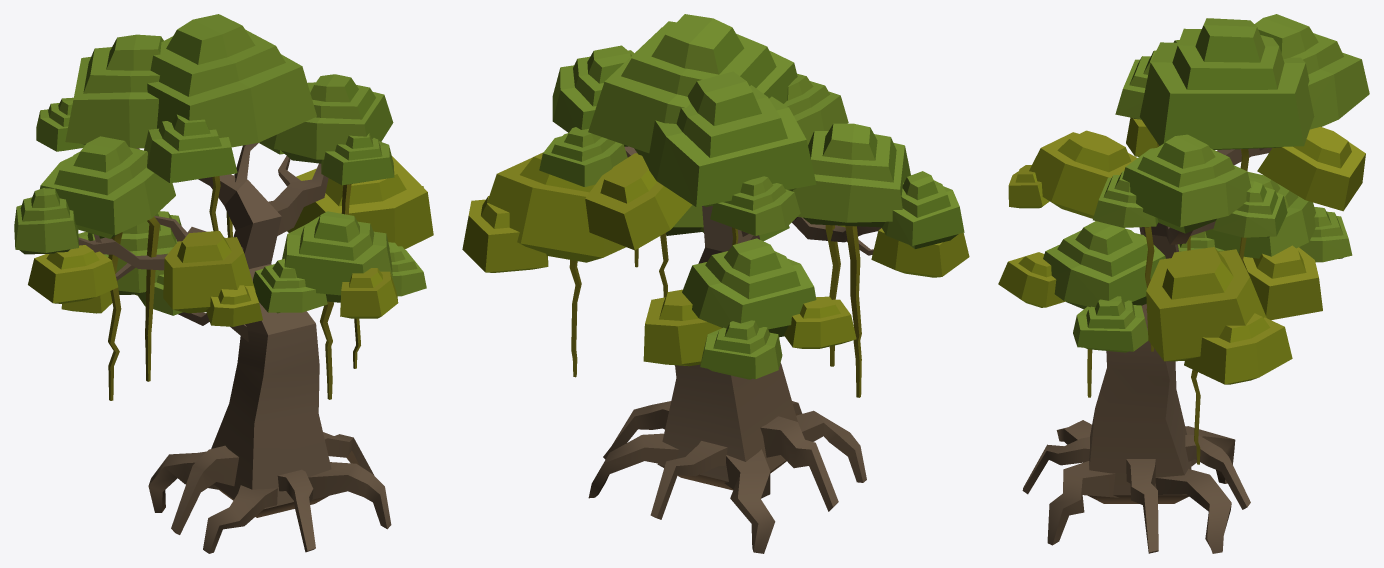
The model's file is ST_Env_Tree_Huge_01.fbx.
The picture shows the model from 3 angles, left to right: view 1: azimuth 30°, elevation 25°; view 2: azimuth 150°, elevation 25°; view 3: azimuth 270°, elevation 25°; orthographic projection. The views are drawn at different scales.
Parts seen in each view (by area): view 1: ST_Env_Tree_Huge_01; view 2: ST_Env_Tree_Huge_01; view 3: ST_Env_Tree_Huge_01.
Boxes of the visible parts, x1,y1,x2,y2 form: ST_Env_Tree_Huge_01: (14, 14, 433, 553); ST_Env_Tree_Huge_01: (462, 14, 969, 553); ST_Env_Tree_Huge_01: (998, 14, 1369, 553).
Bounding box in the file's own units: 18.18 × 18.77 × 13.01.
